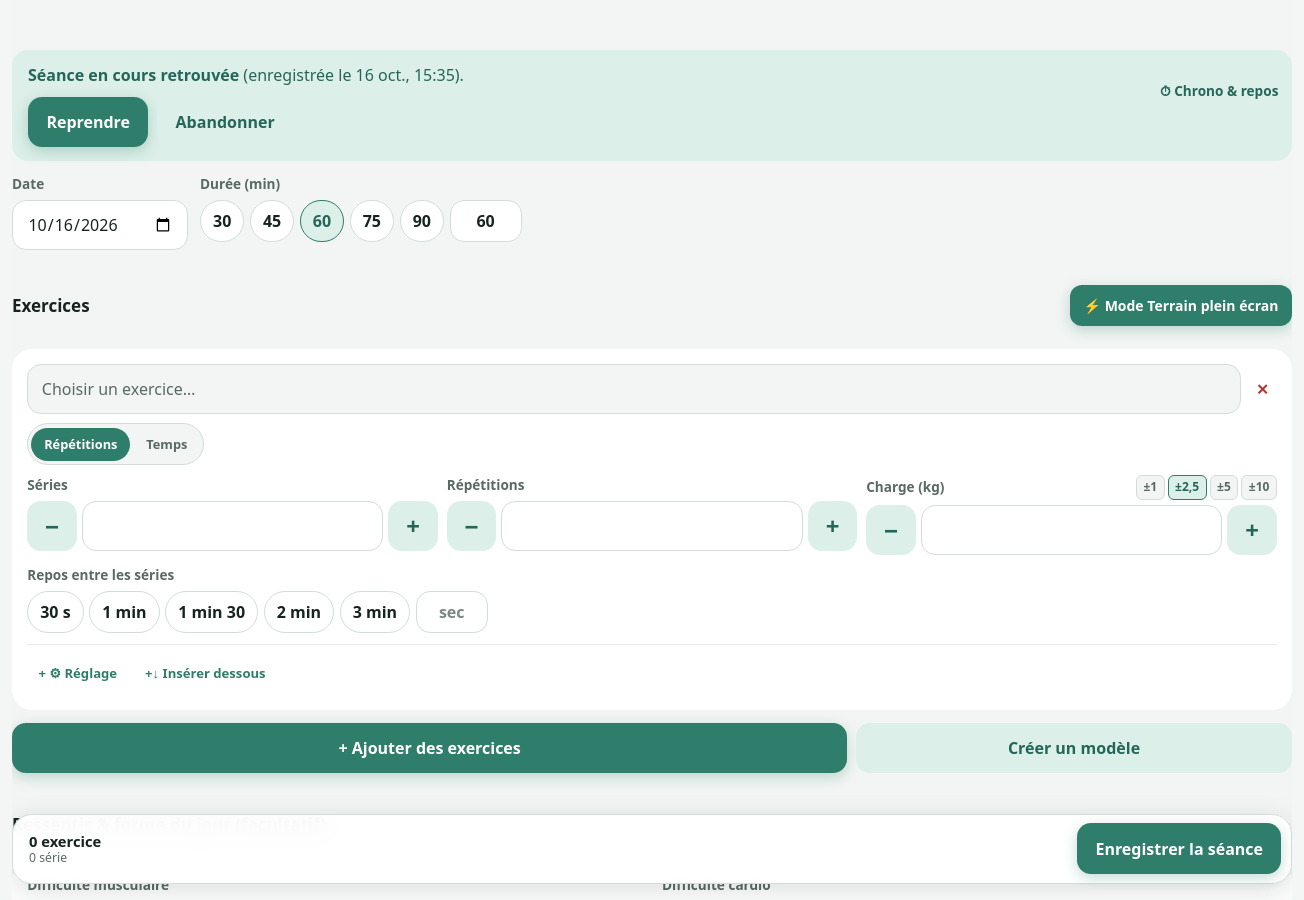
Test: NouvelleSeance - Sauvegarde du brouillon et Mode Terrain ([P1-02]) › permet d’abandonner un brouillon existant en vue classique et le purge du stockage
This screenshot has width=1304, height=900.
Expected: the message is shown, x1=12 y1=50 x2=1292 y2=161
Click the button "Abandonner" at (225, 122), box x1=157 y1=97 x2=293 y2=147
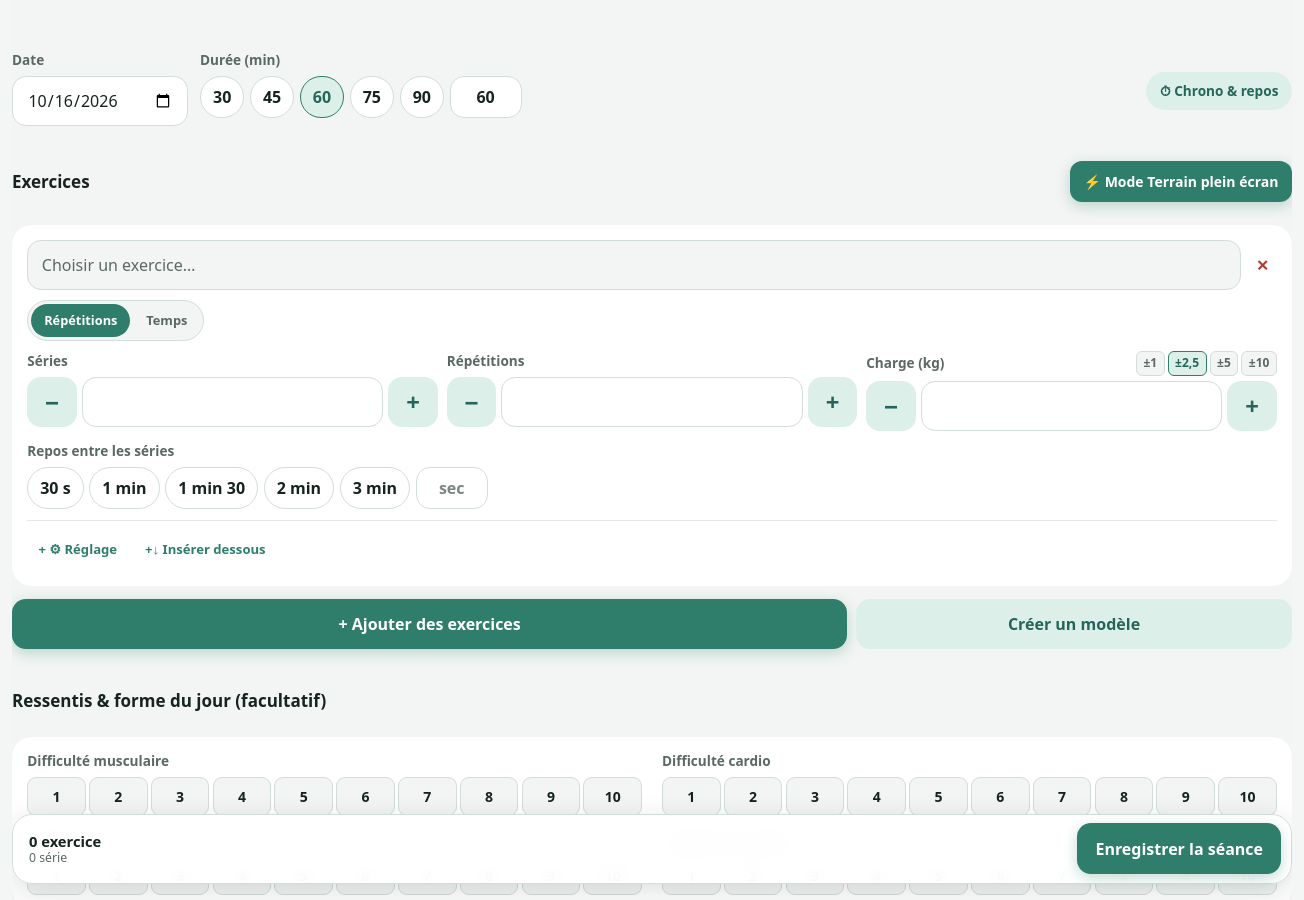
Now the message "Séance en cours retrouvée (enregistrée le 16 oct., 15:35). Reprendre Abandonner" is gone
